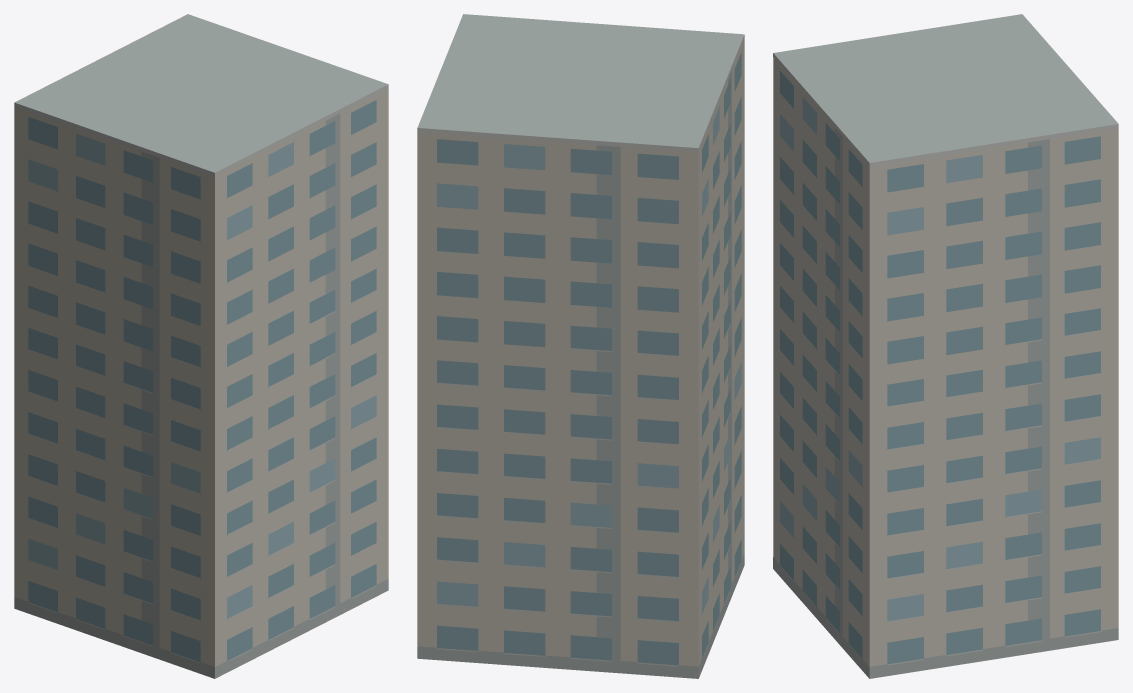
The model's file is residential-67c90d93-a17b-4975-b064-4f12877c27cd.glb.
3 renders of one model, left to right at view 1: azimuth 30°, elevation 25°; view 2: azimuth 150°, elevation 25°; view 3: azimuth 270°, elevation 25°, orthographic. The views are drawn at different scales.
Parts seen in each view (by area): view 1: residential-67c90d93-a17b-4975-b064-4f12877c27cd.tmp; view 2: residential-67c90d93-a17b-4975-b064-4f12877c27cd.tmp; view 3: residential-67c90d93-a17b-4975-b064-4f12877c27cd.tmp.
Boxes of the visible parts, left/top/right/bottom form: residential-67c90d93-a17b-4975-b064-4f12877c27cd.tmp: left=14, top=14, right=388, bottom=678; residential-67c90d93-a17b-4975-b064-4f12877c27cd.tmp: left=417, top=14, right=744, bottom=678; residential-67c90d93-a17b-4975-b064-4f12877c27cd.tmp: left=773, top=14, right=1118, bottom=678.
Size of the model in its own units: 17.97 by 29 by 17.61.
